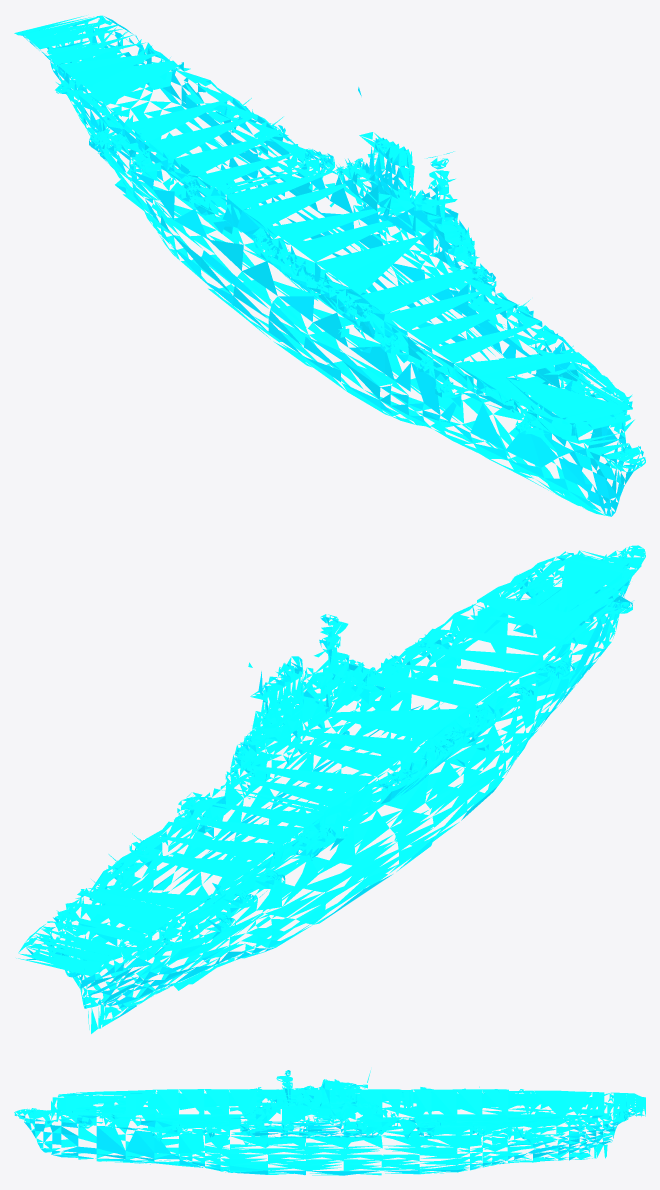
File: PISA508.glb
3 renders of one model, top to bottom at view 1: azimuth 30°, elevation 25°; view 2: azimuth 150°, elevation 25°; view 3: azimuth 270°, elevation 25°, orthographic. The views are drawn at different scales.
Visible parts, largest first — view 1: hull_bow, aa_mount, secondary_battery, hull_body; view 2: hull_bow, aa_mount, secondary_battery, hull_body; view 3: hull_bow, aa_mount, secondary_battery, hull_body.
Boxes of the visible parts, <box> form: hull_bow: <box>14,15,645,516</box>; aa_mount: <box>56,57,632,455</box>; secondary_battery: <box>181,146,490,318</box>; hull_body: <box>277,157,474,275</box>; hull_bow: <box>16,545,645,1033</box>; aa_mount: <box>56,549,634,975</box>; secondary_battery: <box>181,682,489,846</box>; hull_body: <box>235,614,440,771</box>; hull_bow: <box>14,1070,645,1175</box>; aa_mount: <box>27,1086,627,1136</box>; secondary_battery: <box>234,1087,447,1129</box>; hull_body: <box>282,1070,365,1129</box>.
Bounding box in the file's own units: 2.5 × 3.03 × 15.53.
